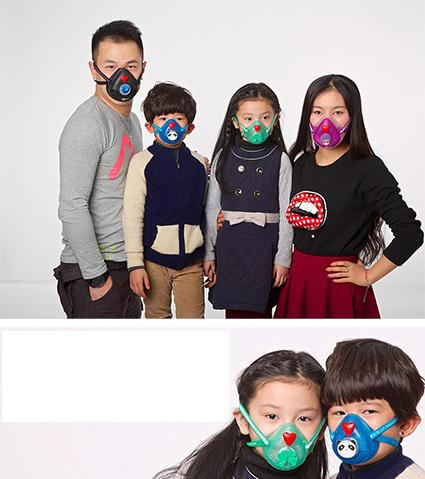OK: (329, 397, 397, 465), (253, 405, 317, 469), (307, 101, 353, 147), (99, 56, 143, 100), (239, 110, 277, 148), (151, 111, 188, 147)
